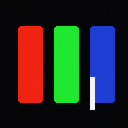4 line_v: (90, 77, 94, 109)
